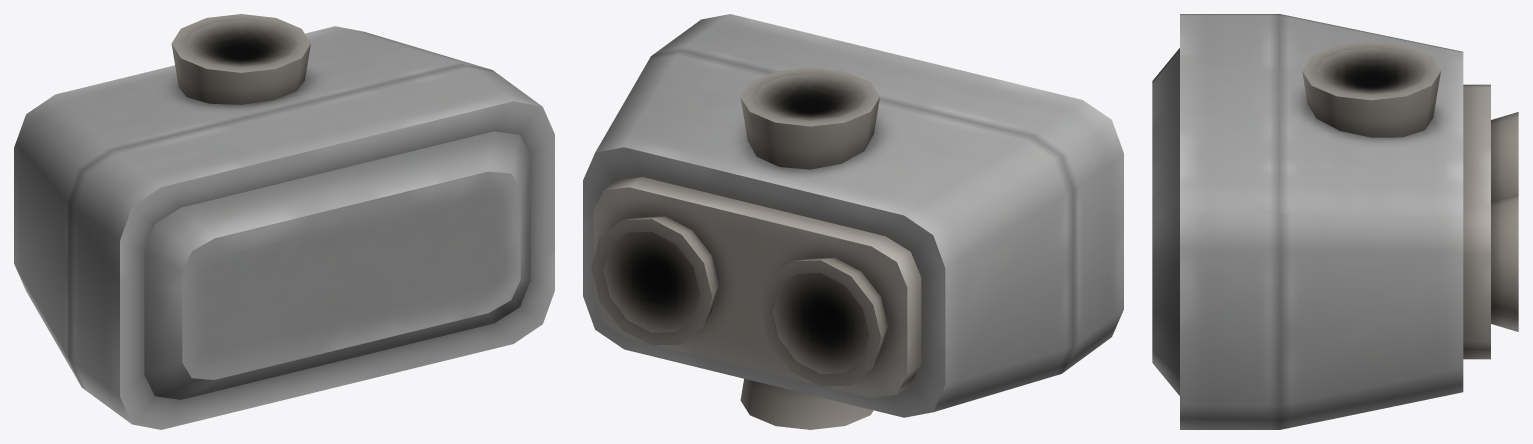
File: Tantares_MOE_3_E.obj
3 renders of one model, left to right at view 1: azimuth 30°, elevation 25°; view 2: azimuth 150°, elevation 25°; view 3: azimuth 270°, elevation 25°, orthographic.
Parts seen in each view (by area): view 1: Tantares_MOE_3_E; view 2: Tantares_MOE_3_E; view 3: Tantares_MOE_3_E.
Part boxes in pixels (<box>): Tantares_MOE_3_E: <box>14,14,554,429</box>; Tantares_MOE_3_E: <box>583,14,1123,429</box>; Tantares_MOE_3_E: <box>1152,14,1518,429</box>.
Size of the model in its own units: 0.225 by 0.15 by 0.165.
